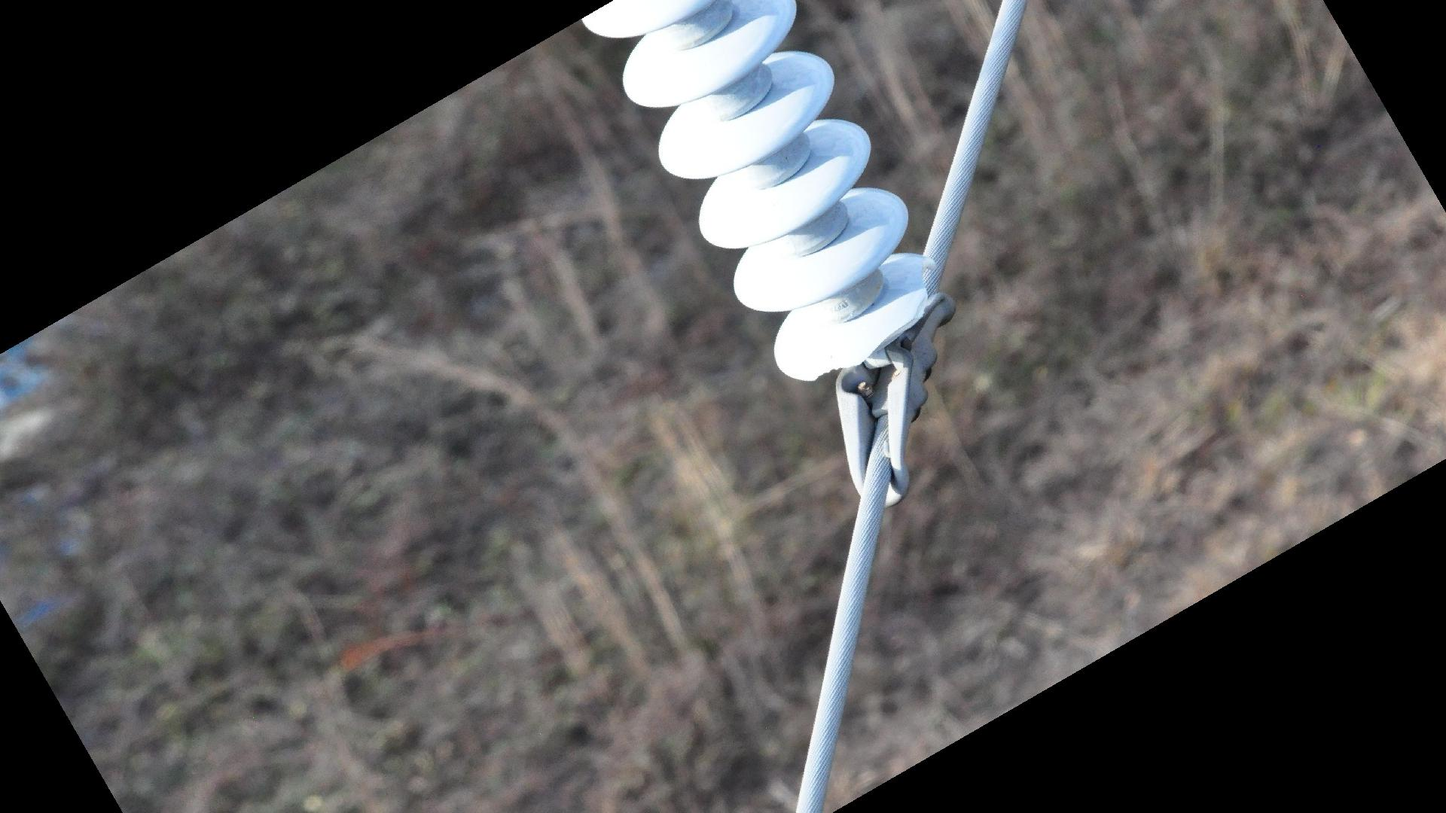insulator: (575, 1, 941, 394)
insulator_breakage: (804, 249, 941, 389)
